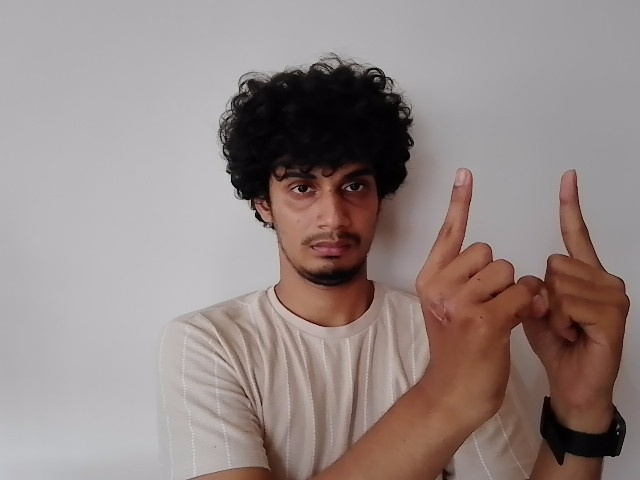play: (411, 162, 638, 409)
